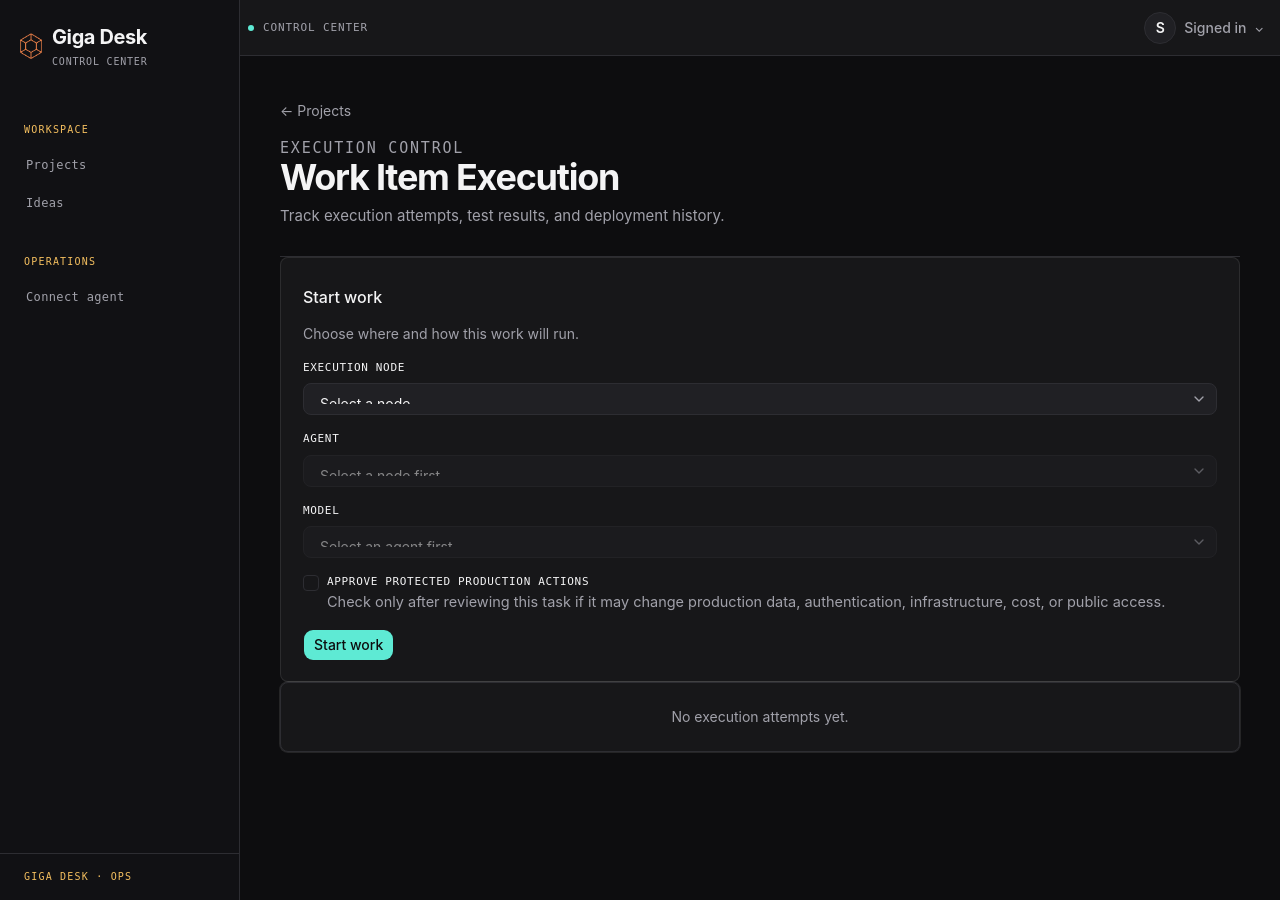
Scenario: App › filters incompatible agents and explains unavailable model selections
Select "Miriam" in the dropdown labelled "Execution node" at (760, 399), box [303,383,1217,415]
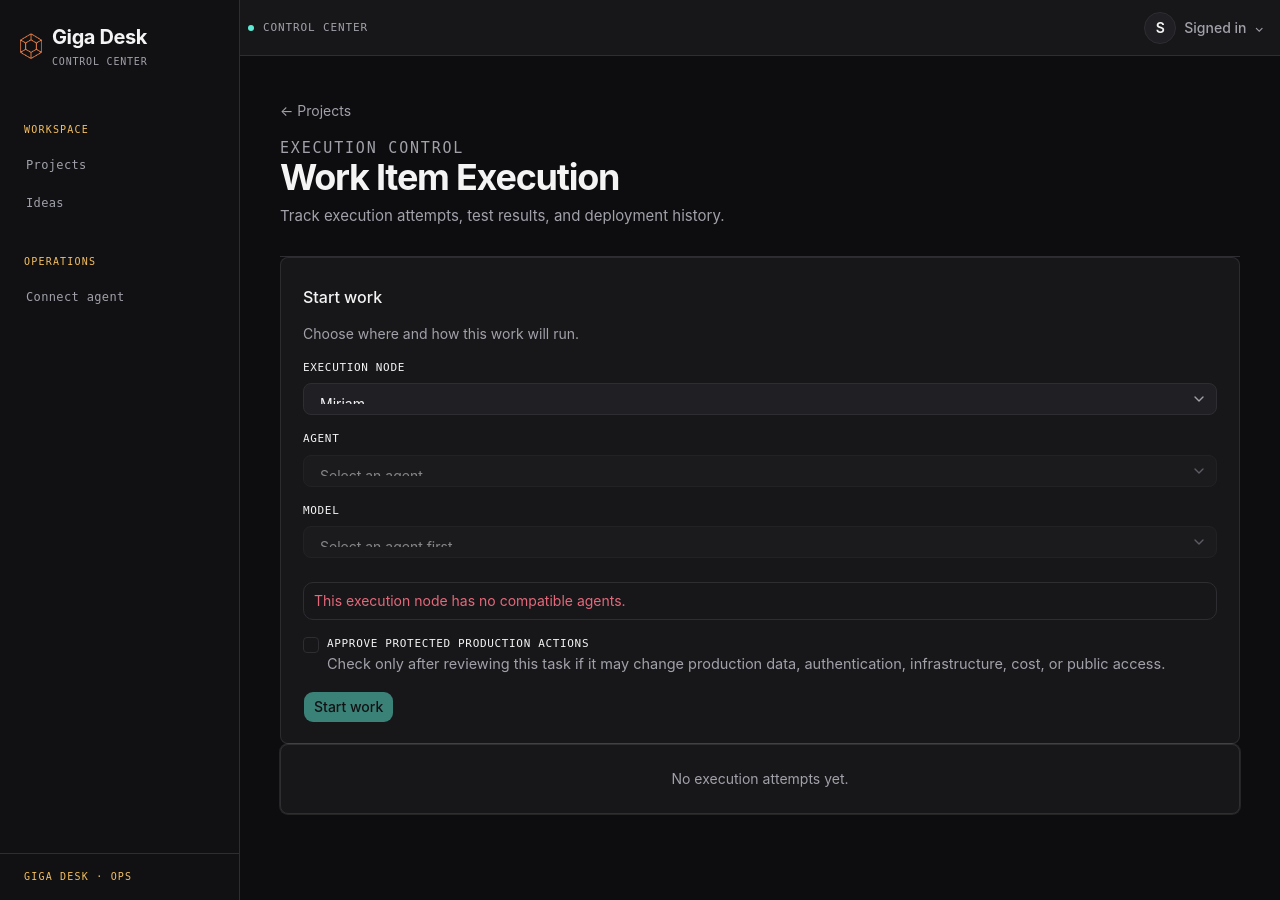
Expected: the dropdown labelled "Agent" is disabled, [303,454,1217,486]
Result: the message reads "This execution node has no compatible agents." at [314,592,626,609]
Result: the button "Start work" is disabled at [303,691,394,723]
